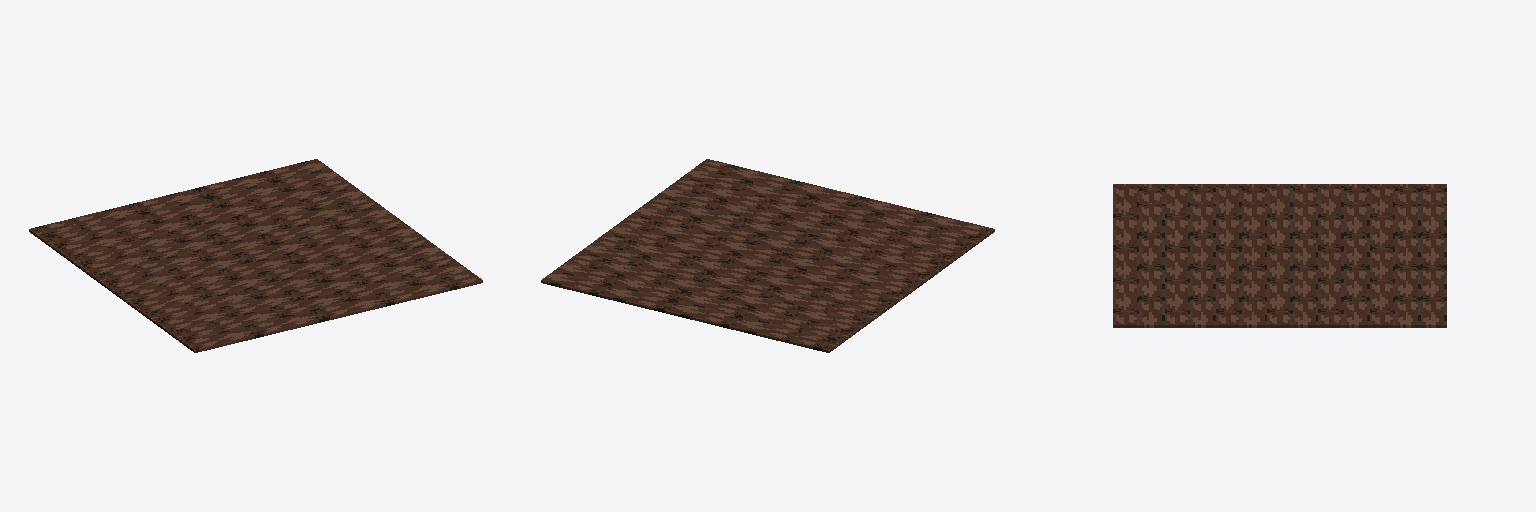
3 views of the same model, side by side, from view 1: azimuth 30°, elevation 25°; view 2: azimuth 150°, elevation 25°; view 3: azimuth 270°, elevation 25° (orthographic).
Visible parts, largest first — view 1: object 1; view 2: object 1; view 3: object 1.
Part boxes in pixels (x1,y1,x2,y2): object 1: (29,159,482,352); object 1: (541,159,994,352); object 1: (1113,184,1446,327).
Size of the model in its own units: 13 by 0.1 by 13.
Materials: 1 (1 with a texture image).